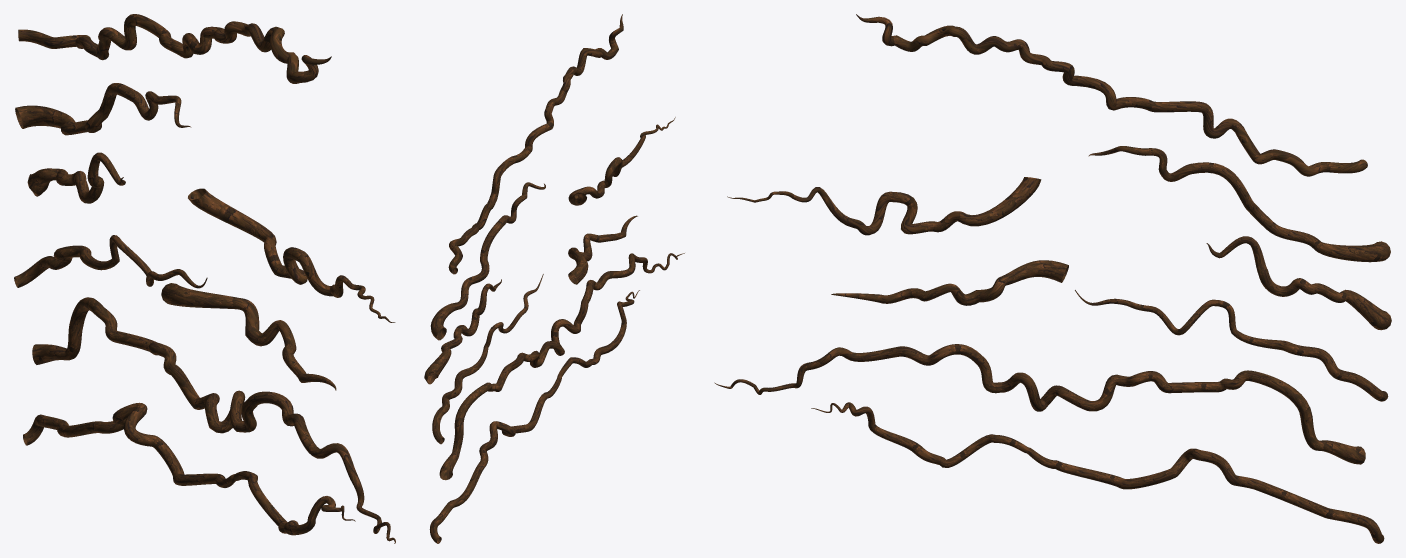
The model's file is galhos.fbx.
3 views of the same model, side by side, from view 1: azimuth 30°, elevation 25°; view 2: azimuth 150°, elevation 25°; view 3: azimuth 270°, elevation 25° (orthographic). The views are drawn at different scales.
Parts seen in each view (by area): view 1: galhos.007, galhos.006, galhos, galhos.005, galhos.001, galhos.002, galhos.004, galhos.003; view 2: galhos.007, galhos.006, galhos, galhos.002, galhos.004, galhos.003, galhos.005, galhos.001; view 3: galhos.007, galhos.006, galhos, galhos.005, galhos.002, galhos.004, galhos.001, galhos.003.
Boxes of the visible parts, x1,y1,x2,y2 form: galhos.007: [32, 297, 395, 543]; galhos.006: [18, 14, 331, 83]; galhos: [23, 402, 355, 535]; galhos.005: [188, 188, 395, 322]; galhos.001: [161, 283, 336, 390]; galhos.002: [15, 83, 191, 135]; galhos.004: [14, 235, 207, 288]; galhos.003: [27, 152, 125, 203]; galhos.007: [439, 253, 684, 480]; galhos.006: [448, 14, 623, 274]; galhos: [429, 290, 639, 543]; galhos.002: [430, 182, 545, 340]; galhos.004: [432, 274, 543, 444]; galhos.003: [424, 279, 501, 384]; galhos.005: [568, 117, 675, 205]; galhos.001: [568, 215, 637, 284]; galhos.007: [714, 344, 1365, 464]; galhos.006: [856, 14, 1367, 176]; galhos: [811, 402, 1384, 543]; galhos.005: [727, 177, 1041, 235]; galhos.002: [1088, 146, 1390, 262]; galhos.004: [1075, 290, 1388, 401]; galhos.001: [831, 260, 1068, 305]; galhos.003: [1206, 236, 1391, 330].
Bounding box in the file's own units: 499 × 4373 × 5034.
1 material, 1 textured.
